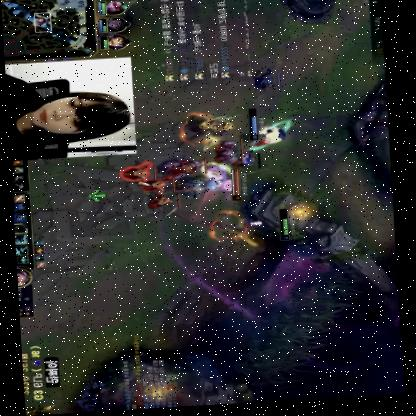streamer: (3, 58, 130, 161)
